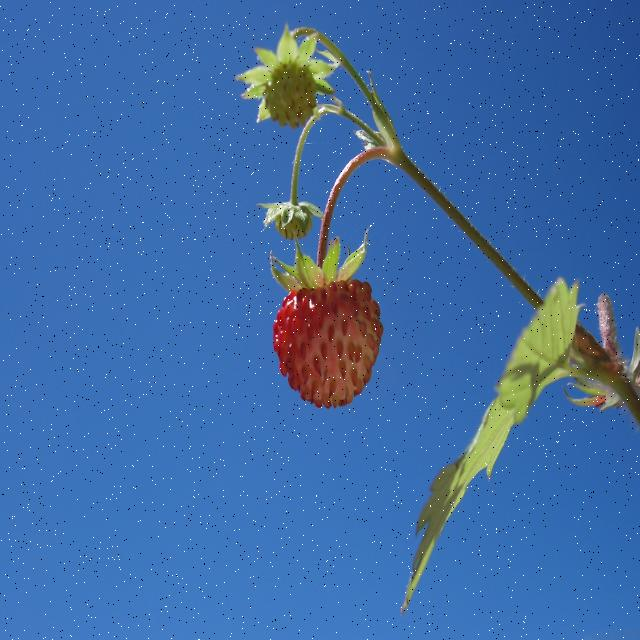Strawberry: (261, 244, 396, 441)
young_strawberry: (227, 22, 340, 139), (254, 193, 326, 243)
